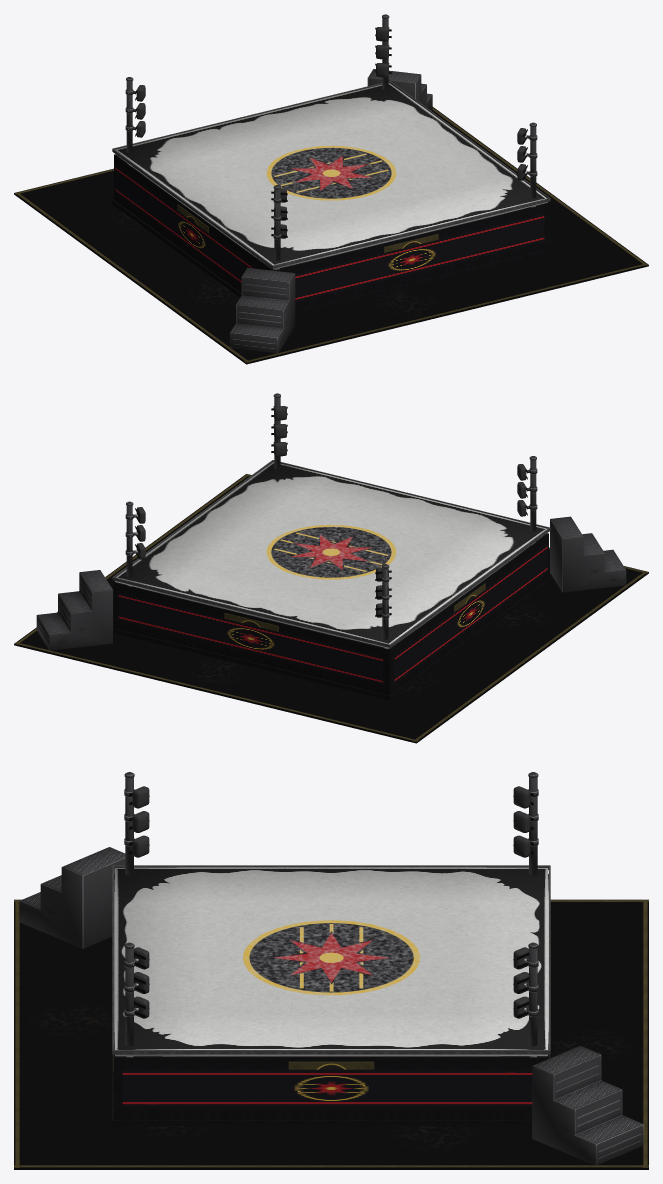
The model's file is ring_arena.glb.
3 renders of one model, top to bottom at view 1: azimuth 30°, elevation 25°; view 2: azimuth 150°, elevation 25°; view 3: azimuth 270°, elevation 25°, orthographic. The views are drawn at different scales.
Visible parts, largest first — view 1: ring_Hero_ring_canvas_20__white, ring_Kit_rubber_tiles, ring_Kit_fabric_leather_02, ring_Art_Apron, ring_Decal_Logo, ring_Hero_ring_steps_120__black, ring_Hero_ring_post__black, ring_Hero_ring_pad__neutral__Pad_Black, ring_Decal_Grime; view 2: ring_Hero_ring_canvas_20__white, ring_Kit_rubber_tiles, ring_Kit_fabric_leather_02, ring_Art_Apron, ring_Hero_ring_steps_120__black, ring_Decal_Logo, ring_Hero_ring_post__black, ring_Hero_ring_pad__neutral__Pad_Black, ring_Decal_Grime; view 3: ring_Hero_ring_canvas_20__white, ring_Kit_rubber_tiles, ring_Kit_fabric_leather_02, ring_Hero_ring_steps_120__black, ring_Art_Apron, ring_Decal_Logo, ring_Hero_ring_pad__neutral__Pad_Black, ring_Hero_ring_post__black, ring_Decal_Grime.
Boxes of the visible parts, x1,y1,x2,y2 form: ring_Hero_ring_canvas_20__white: (115, 83, 547, 269); ring_Kit_rubber_tiles: (14, 107, 648, 364); ring_Kit_fabric_leather_02: (15, 81, 647, 362); ring_Art_Apron: (115, 165, 544, 301); ring_Decal_Logo: (186, 145, 421, 248); ring_Hero_ring_steps_120__black: (230, 69, 432, 353); ring_Hero_ring_post__black: (125, 14, 537, 260); ring_Hero_ring_pad__neutral__Pad_Black: (135, 27, 527, 238); ring_Decal_Grime: (115, 214, 433, 313); ring_Hero_ring_canvas_20__white: (115, 462, 547, 648); ring_Kit_rubber_tiles: (14, 474, 648, 743); ring_Kit_fabric_leather_02: (15, 460, 647, 741); ring_Art_Apron: (118, 544, 547, 684); ring_Hero_ring_steps_120__black: (36, 516, 626, 650); ring_Decal_Logo: (241, 525, 476, 627); ring_Hero_ring_post__black: (125, 393, 537, 639); ring_Hero_ring_pad__neutral__Pad_Black: (135, 406, 527, 617); ring_Decal_Grime: (191, 606, 546, 692); ring_Hero_ring_canvas_20__white: (114, 867, 548, 1056); ring_Kit_rubber_tiles: (14, 899, 648, 1169); ring_Kit_fabric_leather_02: (14, 865, 648, 1167); ring_Hero_ring_steps_120__black: (19, 847, 643, 1165); ring_Art_Apron: (122, 1069, 532, 1106); ring_Decal_Logo: (243, 920, 419, 1069); ring_Hero_ring_pad__neutral__Pad_Black: (129, 786, 533, 1018); ring_Hero_ring_post__black: (124, 772, 538, 1046); ring_Decal_Grime: (36, 1004, 626, 1149).
Size of the model in its own units: 8.9 by 2.74 by 8.9.
Materials: 10 (10 with a texture image).
